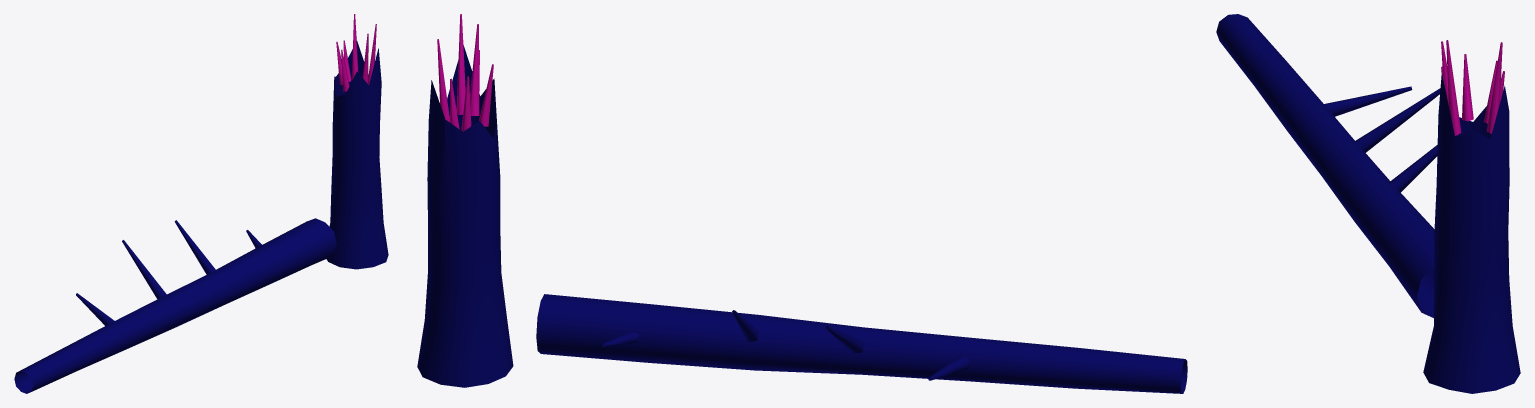
Rendered from PROP_PC_BrokenTree_A.fbx.
3 views of the same model, side by side, from view 1: azimuth 30°, elevation 25°; view 2: azimuth 150°, elevation 25°; view 3: azimuth 270°, elevation 25° (orthographic). The views are drawn at different scales.
Parts seen in each view (by area): view 1: PROP_PC_BrokenTree_A_LOD0; view 2: PROP_PC_BrokenTree_A_LOD0; view 3: PROP_PC_BrokenTree_A_LOD0.
Boxes of the visible parts, left/top/right/bottom form: PROP_PC_BrokenTree_A_LOD0: left=14, top=14, right=388, bottom=393; PROP_PC_BrokenTree_A_LOD0: left=417, top=14, right=1187, bottom=393; PROP_PC_BrokenTree_A_LOD0: left=1216, top=14, right=1520, bottom=393.
Size of what is drawn, in the model's own units: 7.57 by 3.79 by 3.07.
